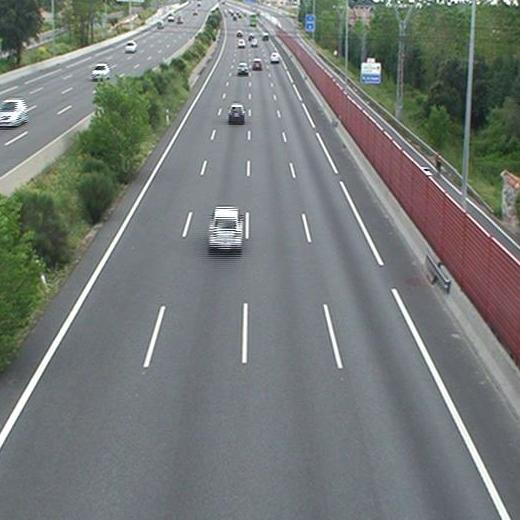car: (208, 206, 242, 250), (227, 106, 245, 122), (237, 63, 248, 74), (269, 52, 279, 63), (251, 60, 261, 70), (237, 40, 245, 48), (250, 38, 257, 45)
